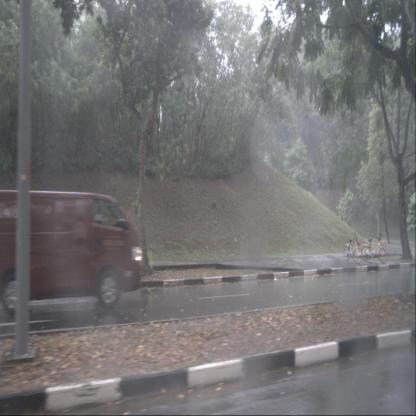vehicle-bicycle: (361, 232, 388, 264), (343, 232, 363, 265)
vehicle-car: (0, 189, 144, 313)
